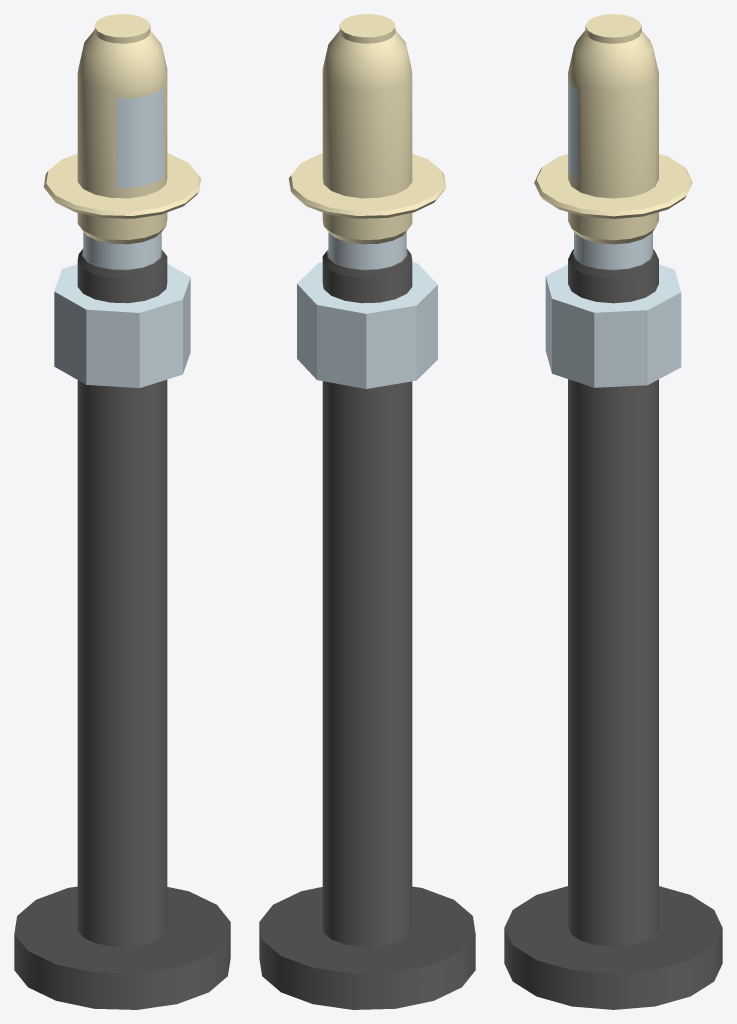
File: tower.fbx
3 views of the same model, side by side, from view 1: azimuth 30°, elevation 25°; view 2: azimuth 150°, elevation 25°; view 3: azimuth 270°, elevation 25° (orthographic).
Visible parts, largest first — view 1: tower; view 2: tower; view 3: tower.
Part boxes in pixels (left/top/right/bottom): tower: left=14, top=14, right=230, bottom=1009; tower: left=259, top=14, right=475, bottom=1009; tower: left=504, top=14, right=722, bottom=1009.
Bounding box in the file's own units: 8 × 37.97 × 8.
